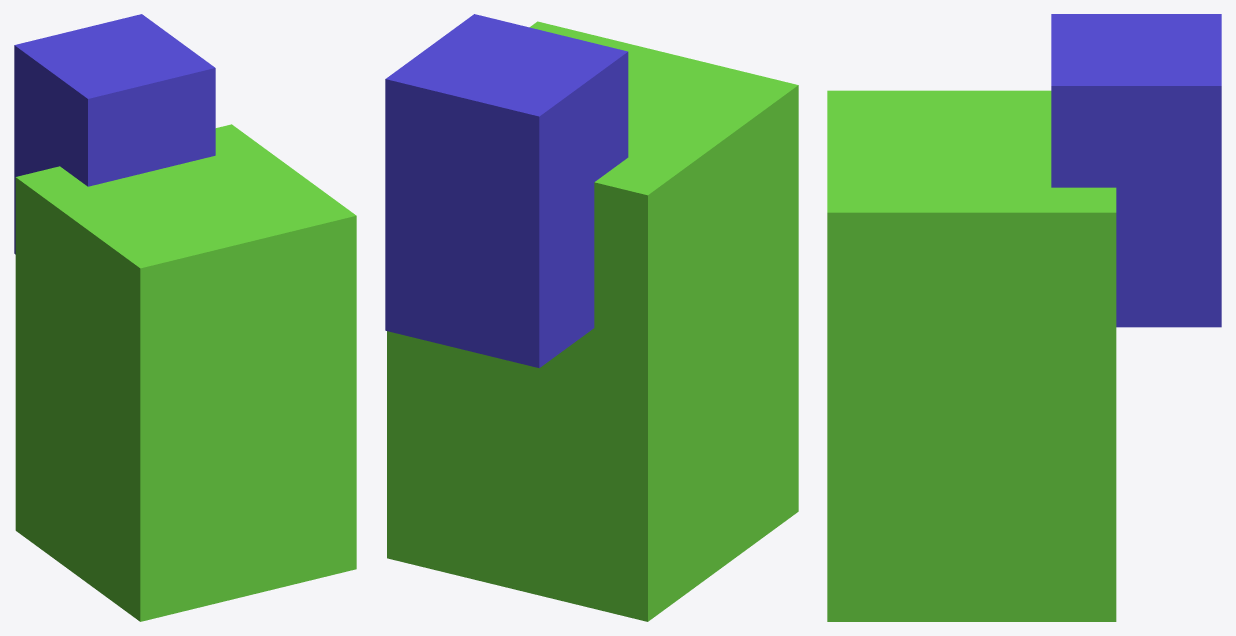
The model's file is personfbx.fbx.
The picture shows the model from 3 angles, left to right: view 1: azimuth 30°, elevation 25°; view 2: azimuth 150°, elevation 25°; view 3: azimuth 270°, elevation 25°; orthographic projection. The views are drawn at different scales.
Visible parts, largest first — view 1: Cube, Cube.001; view 2: Cube, Cube.001; view 3: Cube, Cube.001.
Part boxes in pixels (bbox=[...]): Cube: bbox=[15, 124, 356, 621]; Cube.001: bbox=[14, 14, 215, 254]; Cube: bbox=[387, 21, 798, 621]; Cube.001: bbox=[385, 14, 628, 368]; Cube: bbox=[827, 90, 1116, 621]; Cube.001: bbox=[1051, 14, 1221, 327].
Size of what is drawn, in the model's own units: 2.43 by 3.32 by 4.74.
